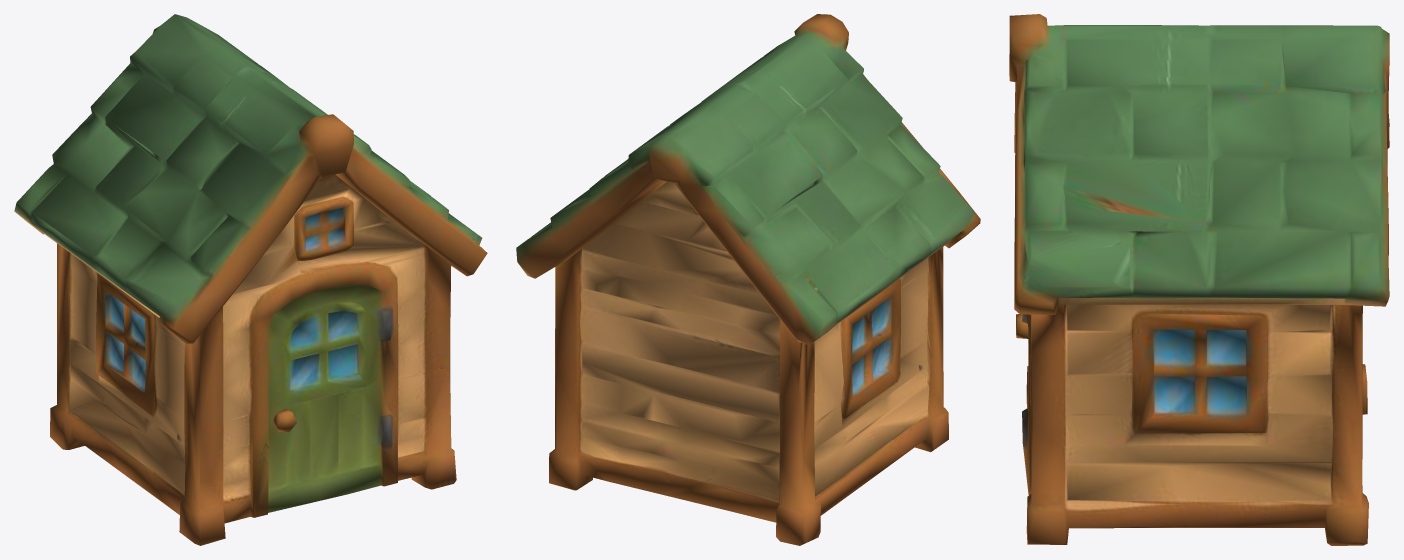
File: playhouse.glb
The picture shows the model from 3 angles, left to right: view 1: azimuth 30°, elevation 25°; view 2: azimuth 150°, elevation 25°; view 3: azimuth 270°, elevation 25°; orthographic projection. The views are drawn at different scales.
Parts seen in each view (by area): view 1: model; view 2: model; view 3: model.
Boxes of the visible parts, x1=… form: model: x1=14, y1=14, x2=487, y2=545; model: x1=516, y1=14, x2=980, y2=545; model: x1=1009, y1=14, x2=1389, y2=545.
Size of the model in its own units: 1.57 by 1.89 by 1.42.
1 material, 1 textured.
